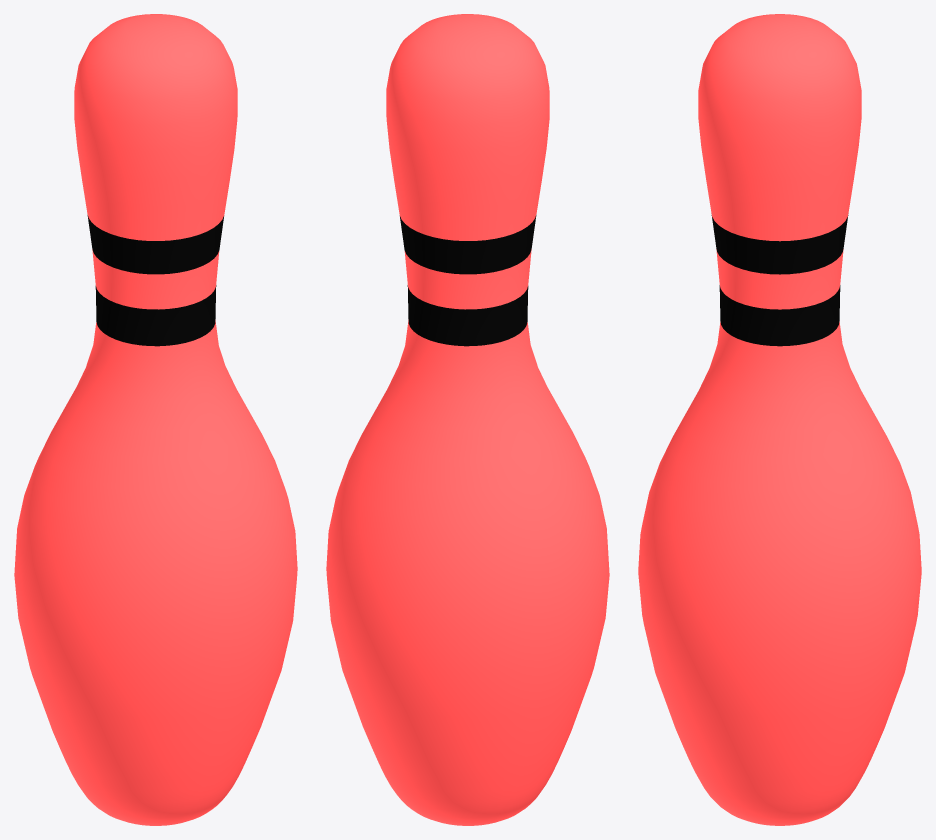
File: mamma.glb
3 views of the same model, side by side, from view 1: azimuth 30°, elevation 25°; view 2: azimuth 150°, elevation 25°; view 3: azimuth 270°, elevation 25° (orthographic).
Visible parts, largest first — view 1: CUBezierCurve001, CUBezierCurve001_1; view 2: CUBezierCurve001, CUBezierCurve001_1; view 3: CUBezierCurve001, CUBezierCurve001_1.
Boxes of the visible parts, <box> form: CUBezierCurve001: <box>14,14,297,825</box>; CUBezierCurve001_1: <box>87,215,223,346</box>; CUBezierCurve001: <box>326,14,609,825</box>; CUBezierCurve001_1: <box>400,215,536,346</box>; CUBezierCurve001: <box>638,14,921,825</box>; CUBezierCurve001_1: <box>711,215,848,346</box>.
Size of the model in its own units: 1.24 by 3.8 by 1.24.
